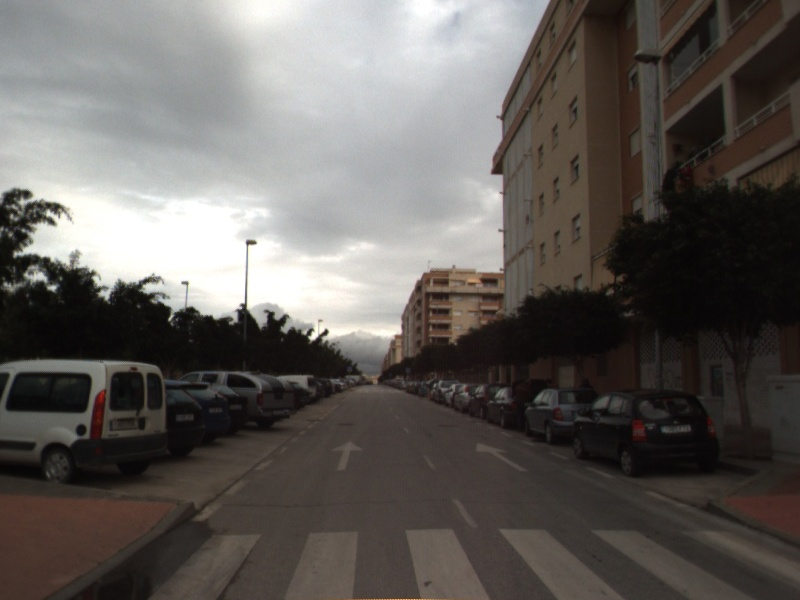STRAIGHT: (474, 440, 531, 474), (329, 439, 366, 472)
